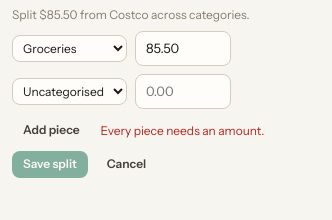
Scenario: SplitEditor › shows a failed save as plain text, and clears it once a piece is edited
Replace the text in the field named "Amount for piece 1" with "60". click: (183, 49)
box: [135, 31, 231, 66]
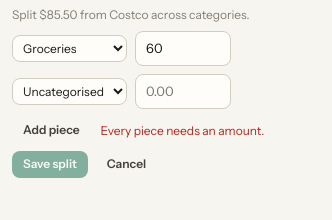
Type "25.50" into the field with placeholder "0.00". click: (183, 92)
box: [135, 74, 231, 109]
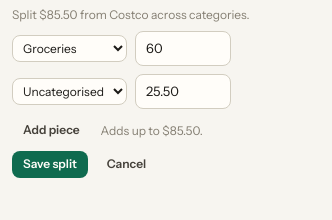
Click the button "Save split". click: (50, 165)
box: [12, 152, 88, 178]
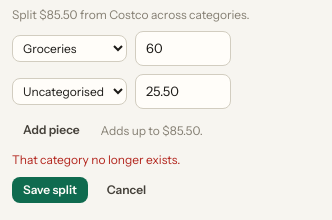
Check: the text "That category no longer exists." is shown, box [12, 152, 180, 168]
Replace the text in the field named "Amount for piece 2" with "25". click: (183, 92)
box: [135, 74, 231, 109]
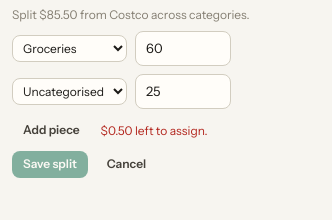
Check: the text "That category no longer exists." is gone
